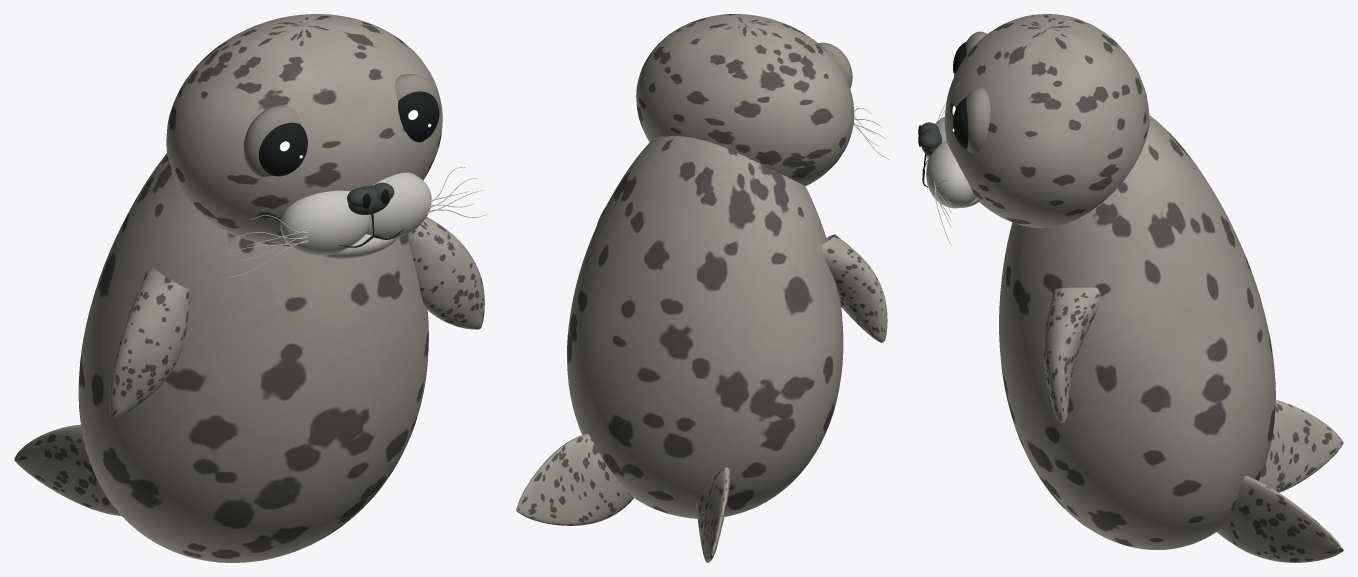
Rendered from seal-harbor-adult.glb.
The picture shows the model from 3 angles, left to right: view 1: azimuth 30°, elevation 25°; view 2: azimuth 150°, elevation 25°; view 3: azimuth 270°, elevation 25°; orthographic projection. The views are drawn at different scales.
Parts seen in each view (by area): view 1: Plump seamless body, Velvet head and muzzle, Webbed flipper (×3), Glossy eye (×2), Twelve tapered whiskers, Soft triangular nose, Soft chin; view 2: Plump seamless body, Velvet head and muzzle, Webbed flipper (×3); view 3: Plump seamless body, Velvet head and muzzle, Webbed flipper (×3), Glossy eye, Soft triangular nose.
Part boxes in pixels (x1,y1,x2,y2): Plump seamless body: (78,153,428,562); Velvet head and muzzle: (166,14,442,255); Webbed flipper (×3): (14,217,484,516); Glossy eye (×2): (258,91,439,176); Twelve tapered whiskers: (229,167,487,277); Soft triangular nose: (347,182,394,214); Soft chin: (320,234,396,259); Plump seamless body: (567,136,843,518); Velvet head and muzzle: (636,14,854,186); Webbed flipper (×3): (516,234,887,562); Plump seamless body: (999,115,1275,549); Velvet head and muzzle: (926,14,1149,228); Webbed flipper (×3): (1043,287,1343,562); Glossy eye: (953,97,968,148); Soft triangular nose: (919,122,941,155).
Bounding box in the file's own units: 1.88 × 2.73 × 2.08.
8 materials, 1 textured.
